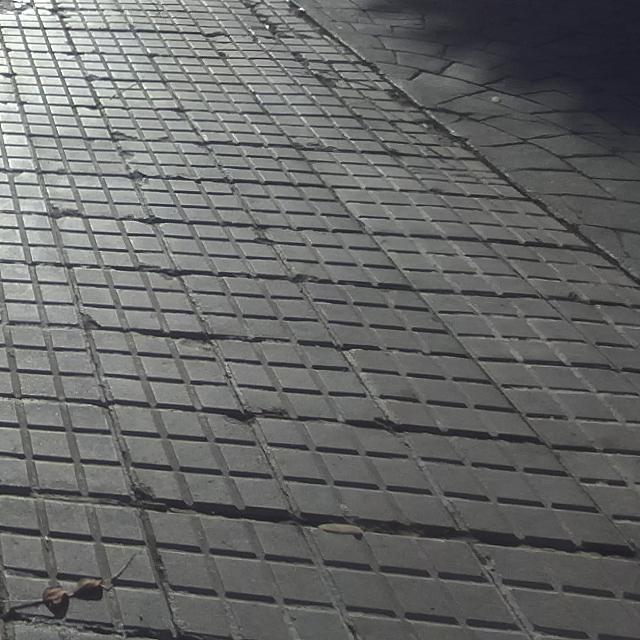calcada_quebrada: (391, 109, 475, 152), (123, 468, 191, 514), (128, 324, 223, 355), (242, 0, 315, 40), (301, 61, 396, 91), (213, 405, 267, 434), (73, 305, 120, 333), (287, 138, 342, 155), (246, 222, 280, 249), (48, 202, 86, 225), (137, 209, 170, 232), (157, 265, 194, 285), (45, 0, 78, 22), (289, 271, 326, 290), (0, 0, 37, 16), (107, 130, 142, 145), (125, 170, 151, 190), (202, 31, 232, 41)
